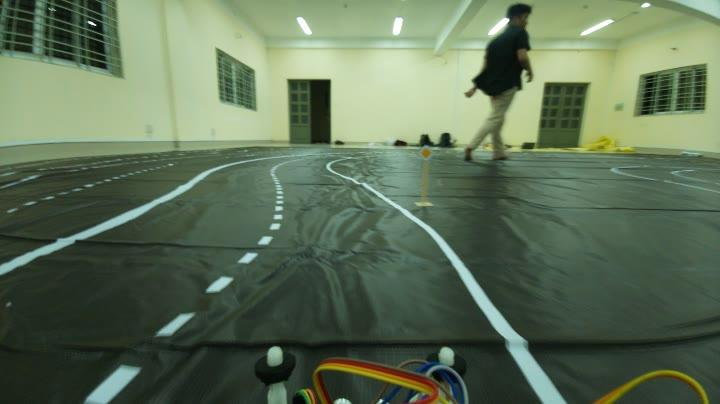priority: (415, 144, 436, 162)
